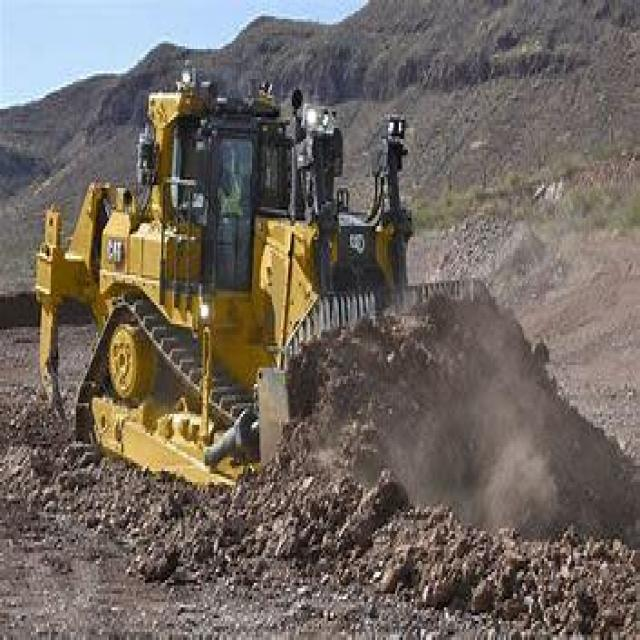Bulldozer: (25, 57, 517, 586)
